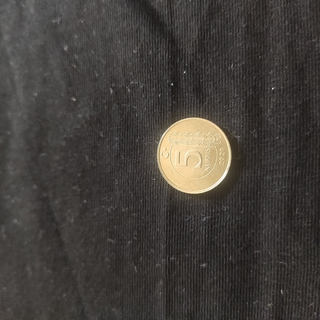5KURUS: (154, 115, 233, 196)
